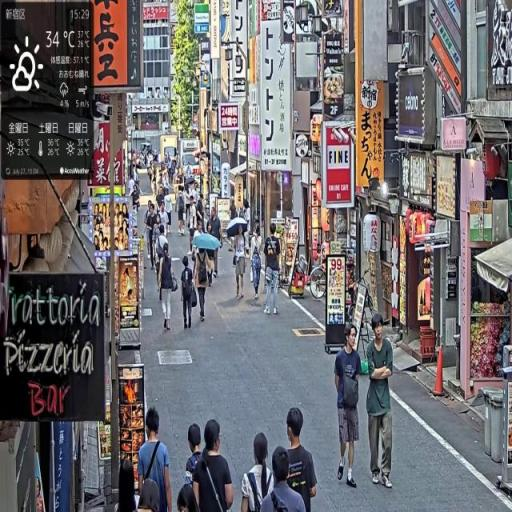person: (366, 309, 397, 491), (335, 323, 364, 488), (193, 419, 236, 512), (137, 408, 174, 512), (287, 406, 319, 512), (260, 448, 311, 512), (240, 433, 275, 512), (158, 242, 179, 333), (264, 226, 283, 317), (232, 226, 248, 300), (181, 254, 196, 331), (145, 202, 158, 274), (178, 189, 187, 237)
